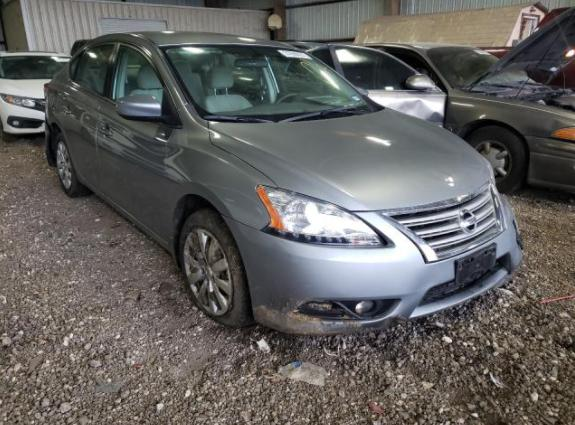Back-bumper: (45, 123, 54, 165)
Back-door: (58, 42, 118, 194)
Back-wheel: (55, 132, 93, 197)
Back-window: (74, 44, 115, 95), (70, 51, 84, 80)
Fender: (165, 101, 277, 258)
Front-bumper: (221, 194, 524, 334)
Front-door: (95, 42, 178, 244)
Front-wheel: (179, 208, 257, 327)
Front-window: (111, 44, 164, 102)
Grille: (374, 179, 507, 264)
Headlight: (257, 184, 387, 246), (491, 167, 495, 185)
Hood: (207, 108, 492, 211)
Mirror: (115, 89, 177, 128)
Quarter-panel: (44, 63, 84, 183)
Rocker-panel: (83, 179, 170, 253)
Roof: (110, 31, 298, 49)
Windshield: (159, 45, 378, 122)
